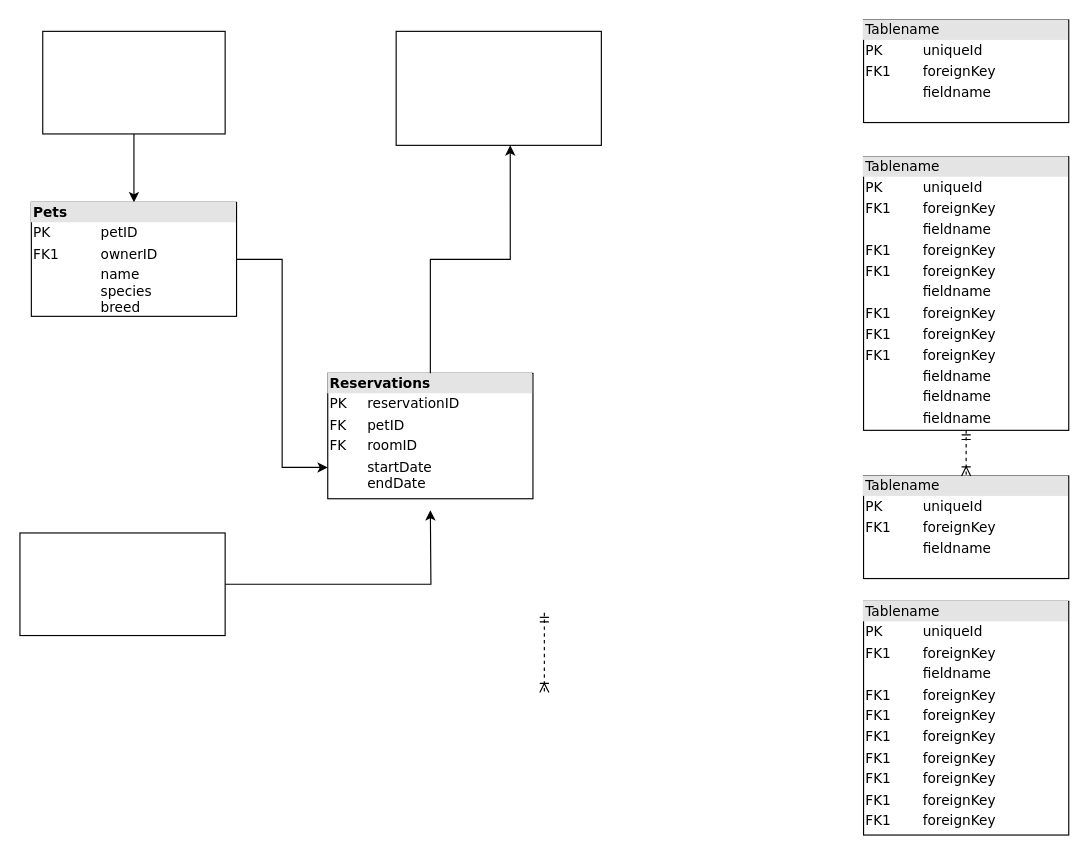
The diagram is 1089 pixels wide and 855 high, and some of its shapes have lost their labels. The centre of each missing label's shape, as x and y in pixels:
PetOwners PK OwnerID Name contact: [133,82]
Rooms PK roomID roomNumber roomType fpricePerNight: [122,584]
Services PK serviceID FK reservationID serviceName servicePrice: [498,87]
